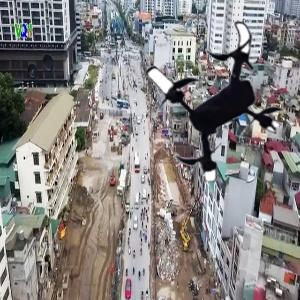drone: (129, 14, 296, 181)
